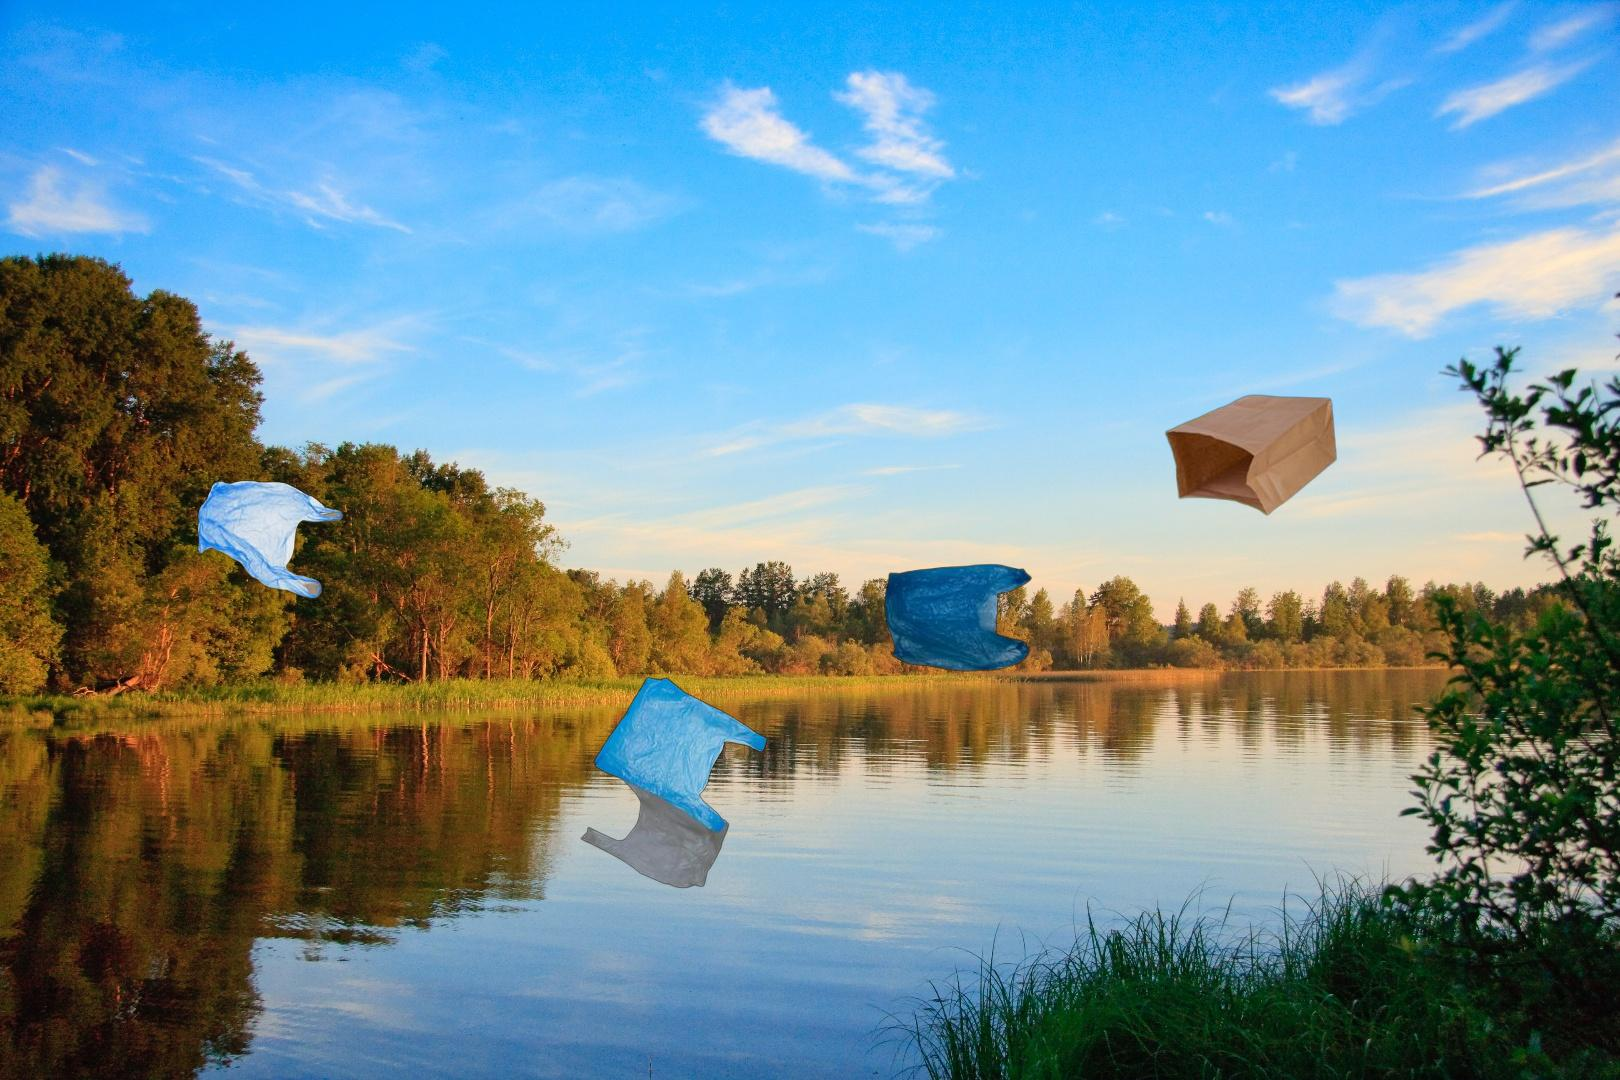paper-bag: (1163, 393, 1340, 518)
plastic-bag: (579, 676, 770, 890), (195, 479, 347, 601), (882, 560, 1035, 674)
